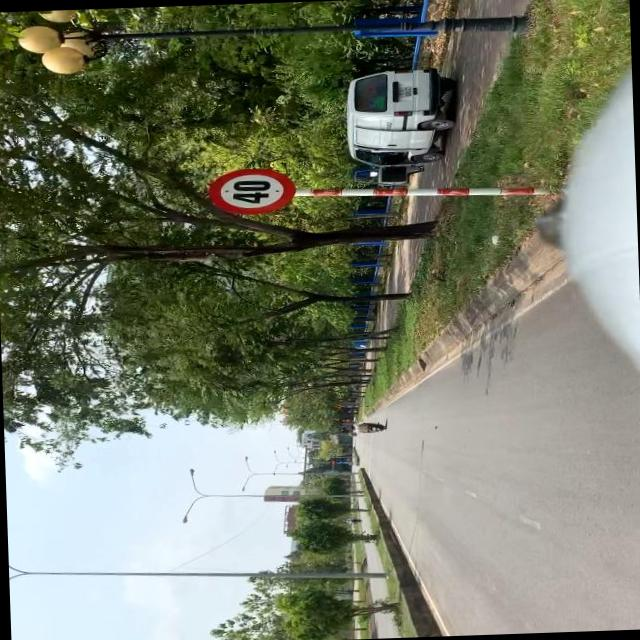P-127: (207, 166, 295, 216)
